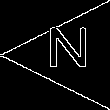N_S: (51, 30, 96, 80)
